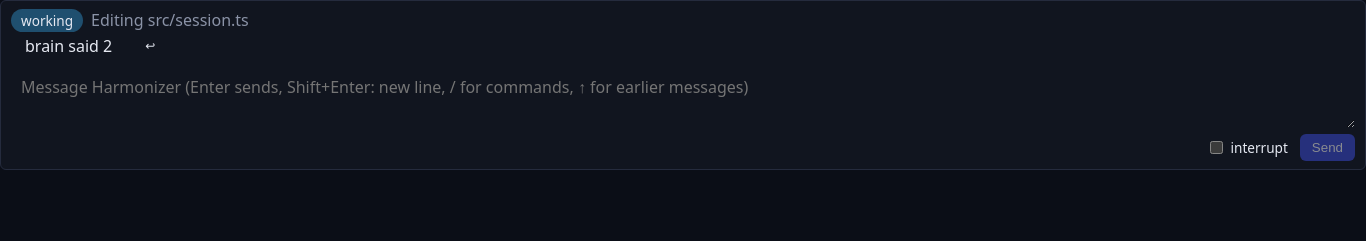
Test: replying in the chat (P8-17) › keeps ↑ history and slash completion working with a quote open
This screenshot has width=1366, height=241.
(page scrolled)
Step 1. Click the button named "Reply to Harmonizer: brain said 2" → (150, 46), box [128, 24, 172, 68]
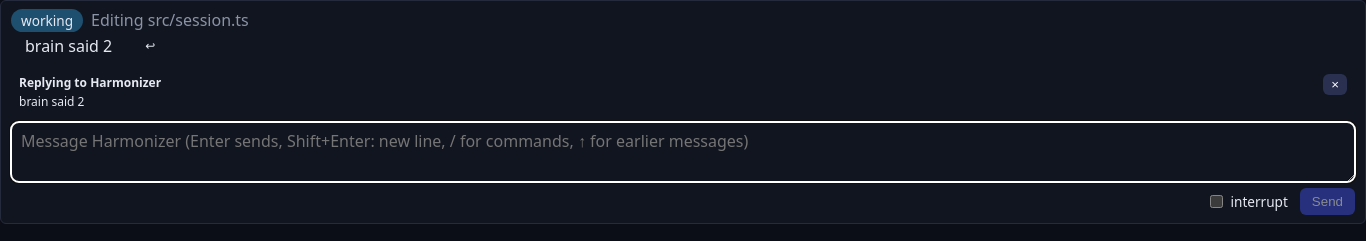
Step 2. Press ArrowUp in the text box named "message to Harmonizer", box [11, 122, 1355, 182]
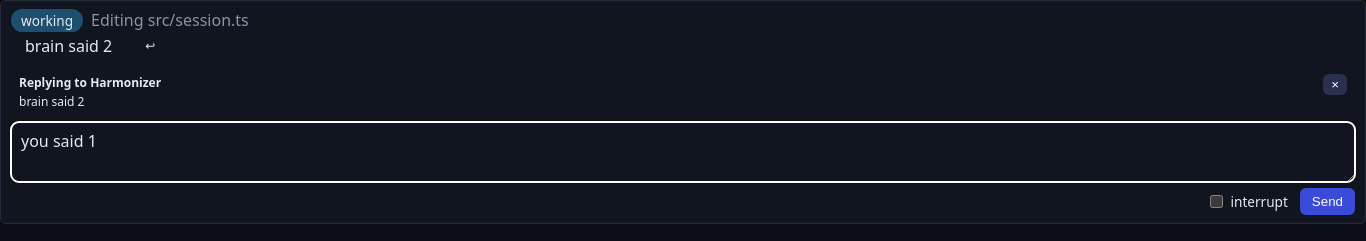
Result: the element "Replying to" is shown at [11, 68, 1355, 116]
Result: the text box named "message to Harmonizer" holds "you said 1" at [11, 122, 1355, 182]
